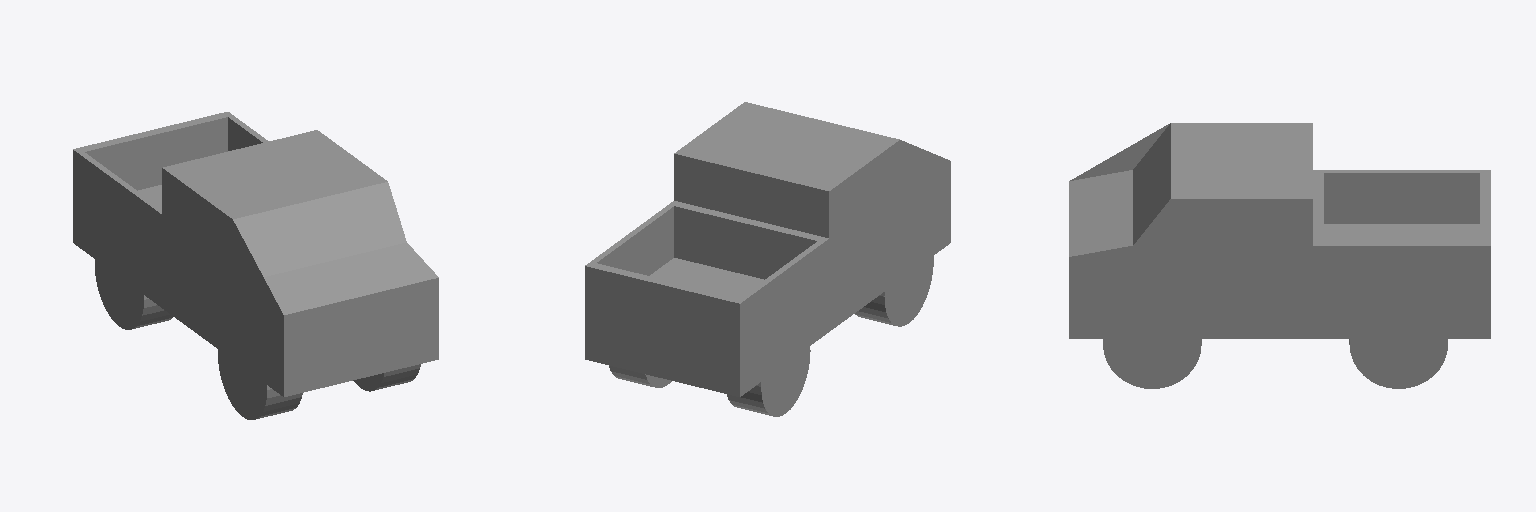
The model's file is car2.obj.
The picture shows the model from 3 angles: view 1: azimuth 30°, elevation 25°; view 2: azimuth 150°, elevation 25°; view 3: azimuth 270°, elevation 25°; orthographic projection.
Parts seen in each view (by area): view 1: Cube; view 2: Cube; view 3: Cube.
Part boxes in pixels (left/top/right/bottom): Cube: left=73, top=112, right=438, bottom=419; Cube: left=585, top=102, right=950, bottom=416; Cube: left=1069, top=123, right=1490, bottom=388.
Bounding box in the file's own units: 2 × 2.35 × 4.71.